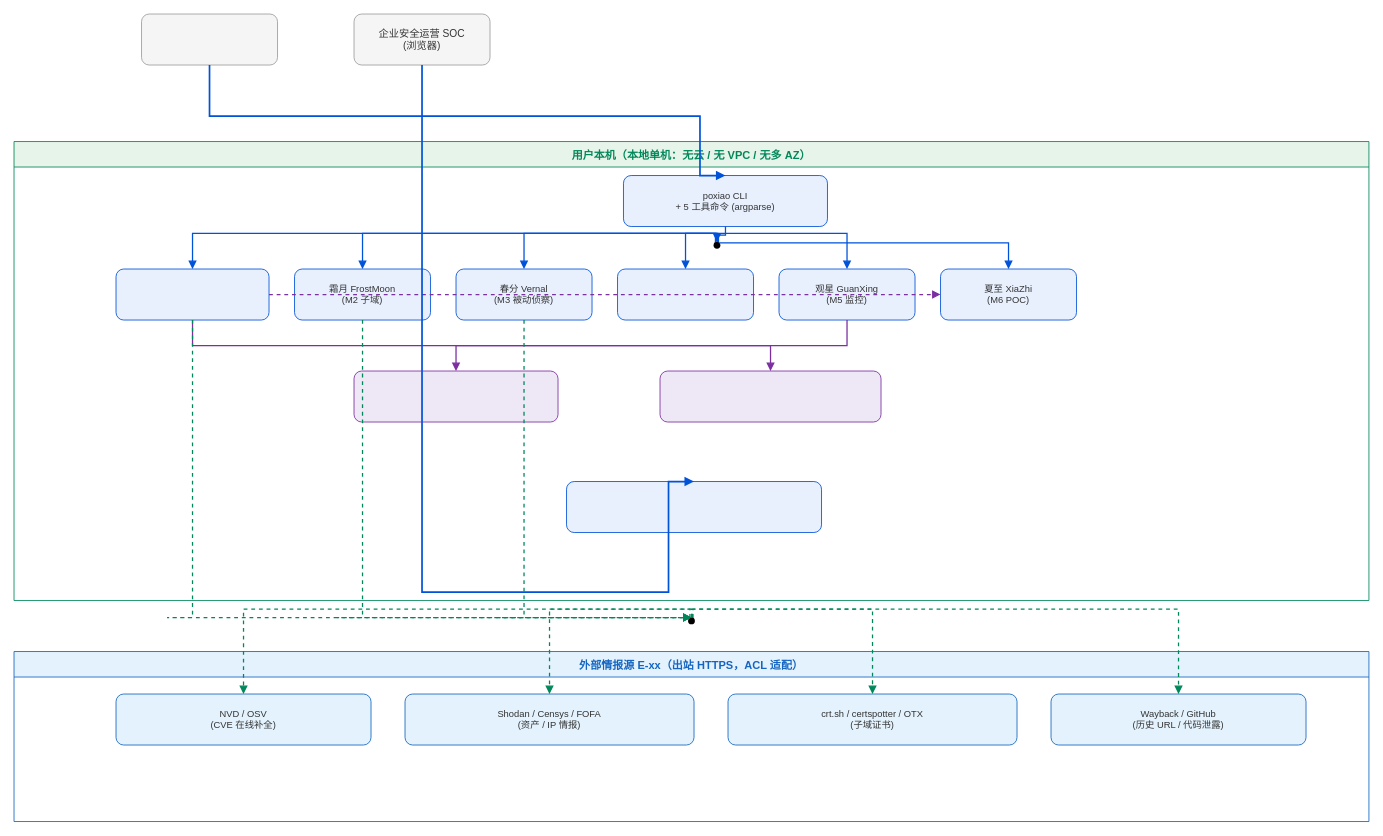
Some shapes in this 1383 by 836 pixel diagram are drawn without their labels. The shapes that lost their labels are listed below. From the top down, each one's centre as x and y in pixels, then its label:
At (209,39): "漏洞赏金猎人 (终端 CLI)".
At (192,294): "破晓 Dawn (M1 核心扫描)".
At (685,294): "惊蛰 JingZhe (M4 验证)".
At (455,396): "SQLite (guanxing.db WAL)".
At (770,396): "文件系统 (报告 / 模板 / 品牌库)".
At (694,507): "GuanXing Web (127.0.0.1:5099 回环)".
